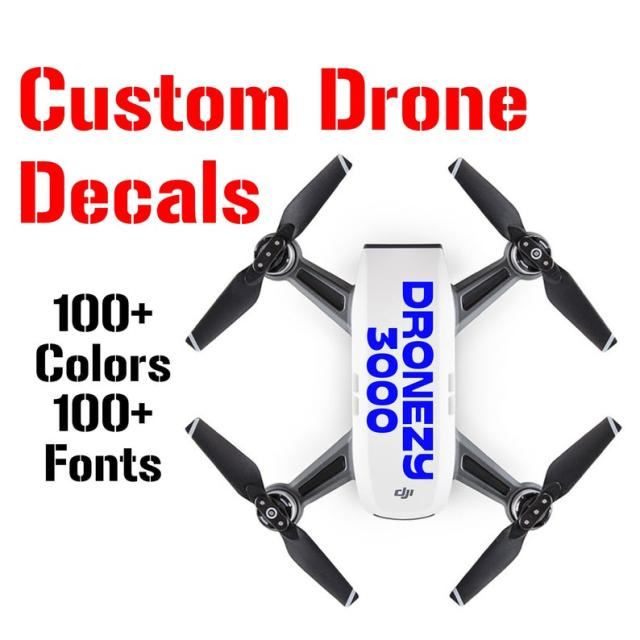drone: (193, 137, 628, 619)
